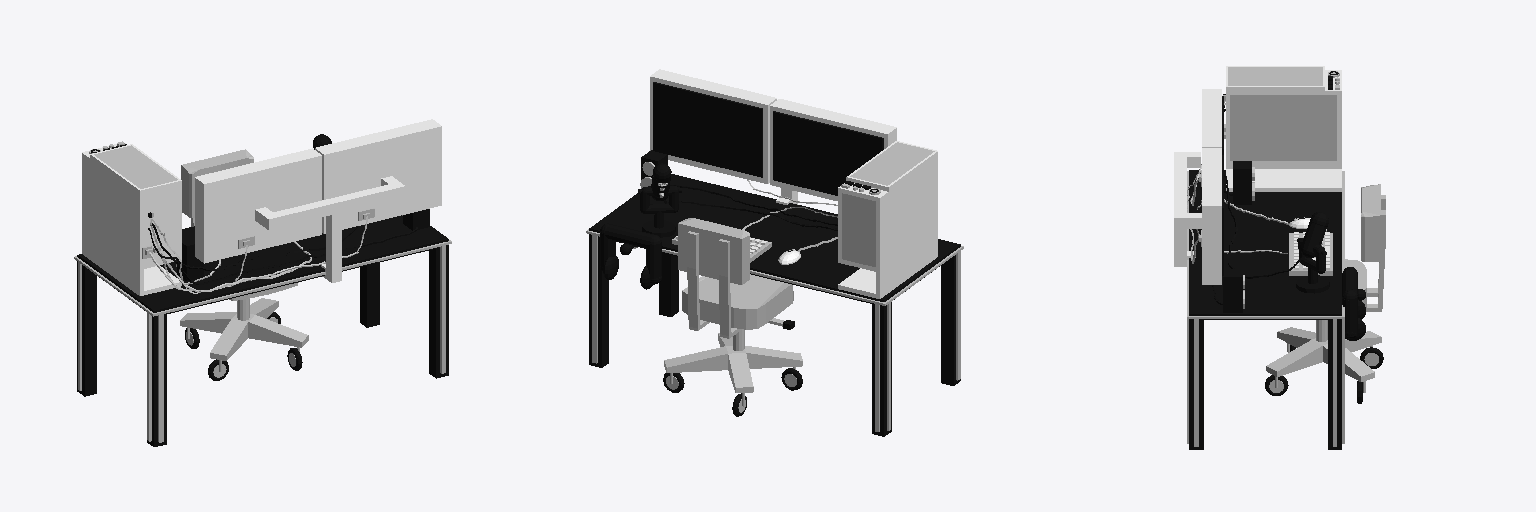
Rendered from emptycomputer.obj.
3 renders of one model, left to right at view 1: azimuth 30°, elevation 25°; view 2: azimuth 150°, elevation 25°; view 3: azimuth 270°, elevation 25°, orthographic.
Visible parts, largest first — view 1: group[number redacted], group[number redacted], group[number redacted], group[number redacted], group[number redacted], group[number redacted], group[number redacted], group[number redacted], group[number redacted], group[number redacted], group[number redacted], group[number redacted] (+14 smaller); view 2: group[number redacted], group[number redacted], group[number redacted], group[number redacted], group[number redacted], group[number redacted], group[number redacted], group[number redacted], group[number redacted], group[number redacted], group[number redacted], group[number redacted] (+9 smaller); view 3: group[number redacted], group[number redacted], group[number redacted], group[number redacted], group[number redacted], group[number redacted], group[number redacted], group[number redacted], group[number redacted], group[number redacted], group[number redacted], group[number redacted] (+4 smaller).
Part boxes in pixels (x1,y1,x2,y2): group[number redacted]: (77,215,448,316); group[number redacted]: (180,149,308,380); group[number redacted]: (82,157,143,291); group[number redacted]: (195,148,321,201); group[number redacted]: (315,119,441,172); group[number redacted]: (375,145,437,221); group[number redacted]: (255,174,317,250); group[number redacted]: (263,182,405,229); group[number redacted]: (213,188,268,260); group[number redacted]: (144,189,181,268); group[number redacted]: (77,261,96,396); group[number redacted]: (429,245,448,378); group[number redacted]: (663,218,802,416); group[number redacted]: (589,174,960,303); group[number redacted]: (653,82,762,177); group[number redacted]: (773,111,883,195); group[number redacted]: (876,160,937,294); group[number redacted]: (842,193,875,266); group[number redacted]: (941,255,960,385); group[number redacted]: (770,99,896,148); group[number redacted]: (650,69,776,122); group[number redacted]: (850,142,934,185); group[number redacted]: (589,234,608,367); group[number redacted]: (872,302,891,436); group[number redacted]: (1189,170,1341,319); group[number redacted]: (1230,95,1336,160); group[number redacted]: (1265,184,1385,403); group[number redacted]: (1226,169,1341,191); group[number redacted]: (1228,67,1322,85); group[number redacted]: (1202,148,1221,222); group[number redacted]: (1189,319,1203,449); group[number redacted]: (1328,320,1341,449); group[number redacted]: (1202,223,1221,284); group[number redacted]: (1202,89,1221,147); group[number redacted]: (1187,171,1344,318); group[number redacted]: (1174,152,1186,228).
Bounding box in the file's own units: 1.42 × 1.11 × 0.8677.